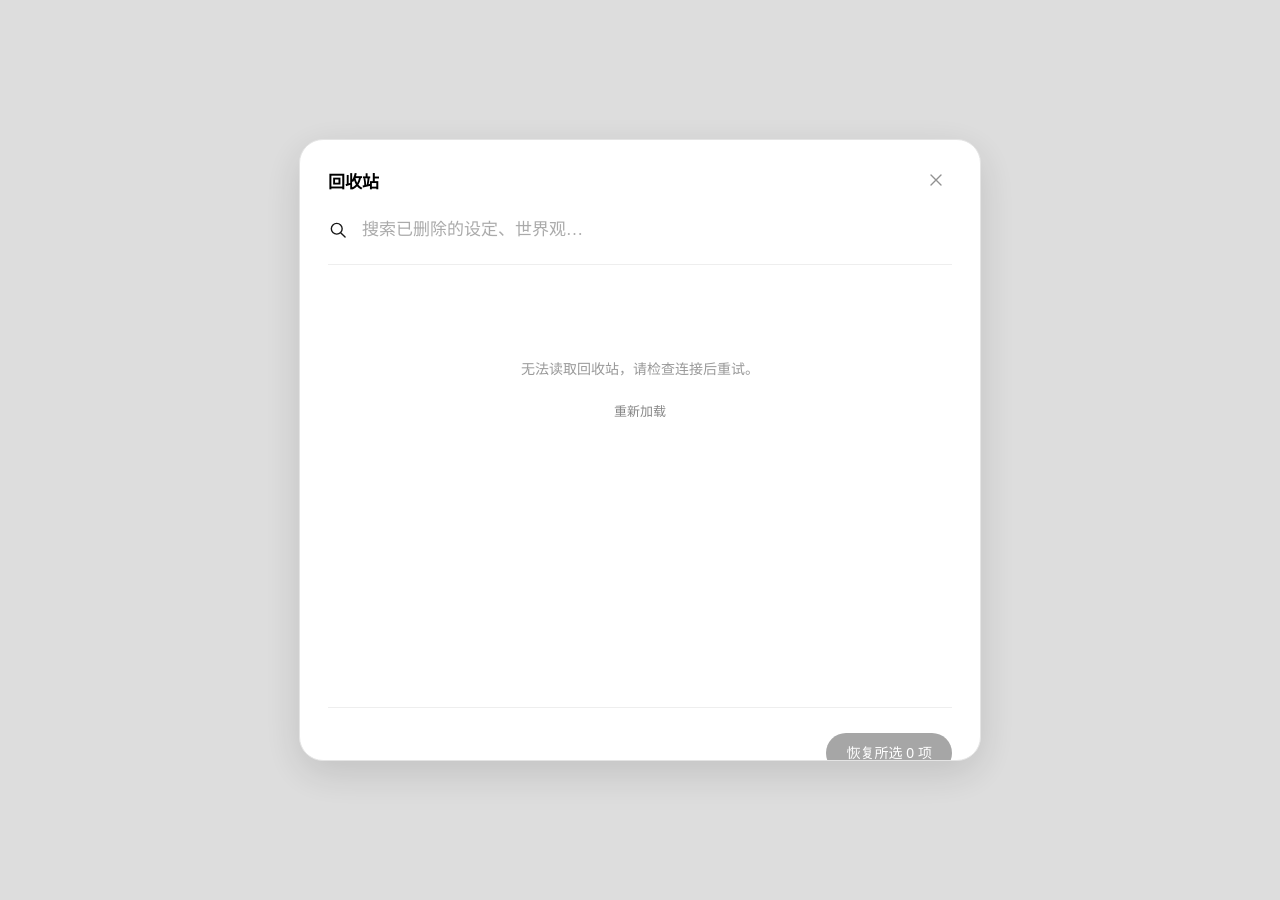
it: shows load failure and retries instead of claiming the trash is empty
This screenshot has width=1280, height=900.
Expected: the message shows "无法读取回收站", left=521, top=362, right=759, bottom=377
Click the button with aria-label "重新加载回收站".
click(640, 410)  # box left=612, top=392, right=668, bottom=428
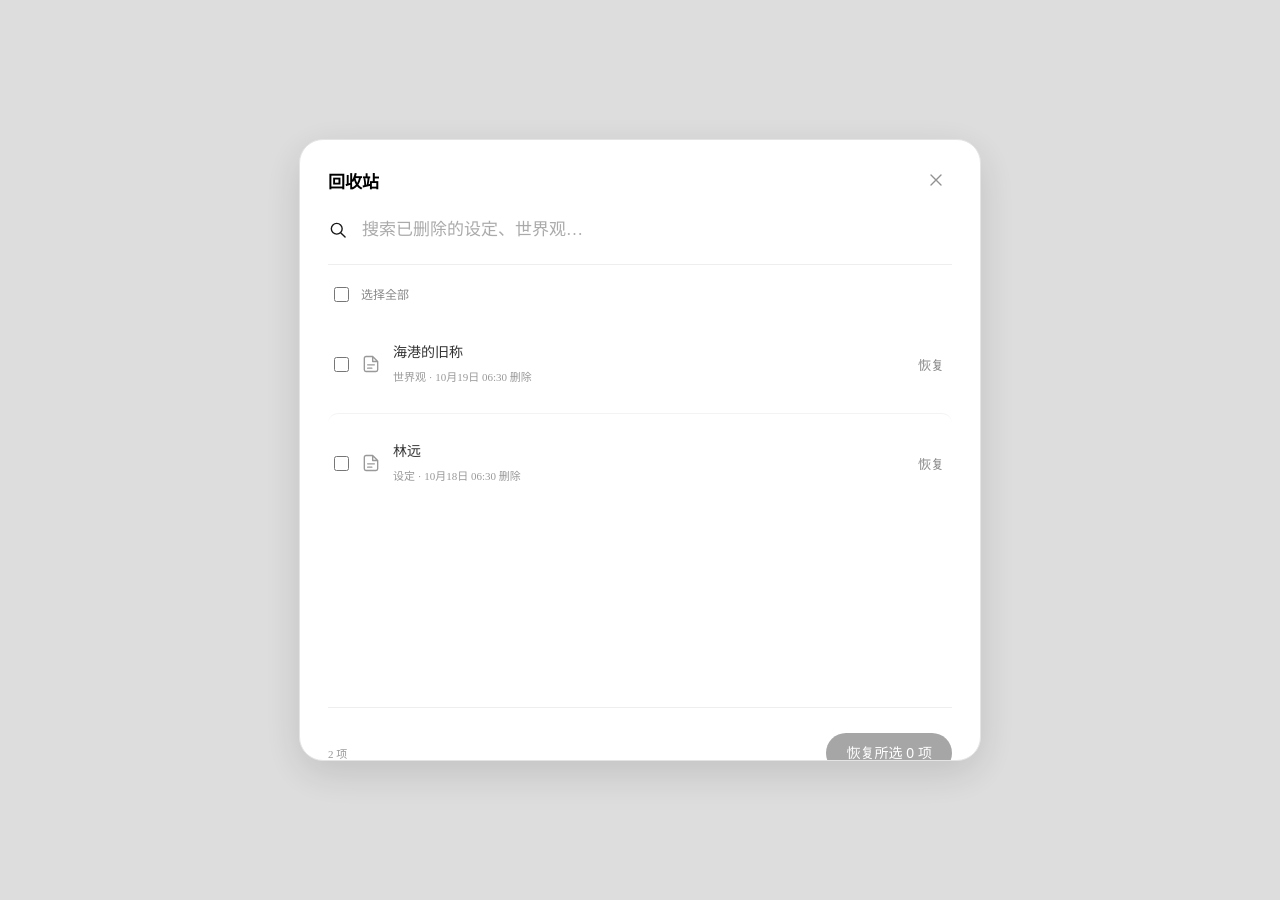
Expected: the text "海港的旧称" is shown, left=393, top=345, right=463, bottom=360
